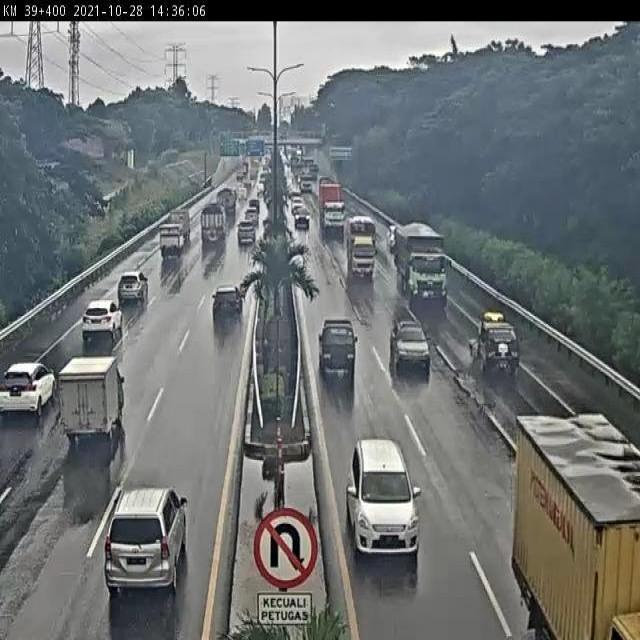big truck: (96, 484, 178, 581), (399, 229, 444, 296), (320, 183, 348, 237), (201, 207, 227, 254)
car: (351, 435, 420, 549), (455, 307, 514, 365), (71, 302, 122, 358), (382, 312, 430, 371), (205, 290, 249, 346), (322, 300, 352, 376), (7, 356, 33, 421), (108, 269, 147, 312), (295, 211, 308, 229), (242, 229, 252, 247)
small bus: (347, 220, 372, 279)
small truck: (488, 393, 639, 627), (55, 379, 113, 473), (159, 223, 184, 261)
